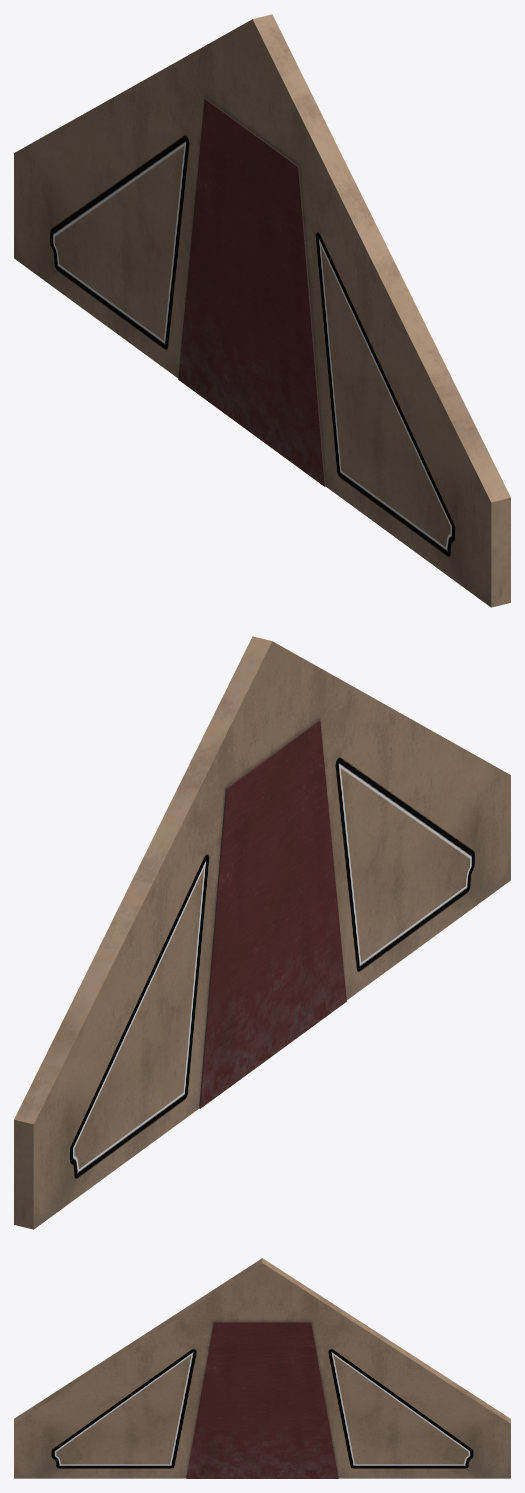
Rendered from SM_Daegong01e.fbx.
3 renders of one model, top to bottom at view 1: azimuth 30°, elevation 25°; view 2: azimuth 150°, elevation 25°; view 3: azimuth 270°, elevation 25°, orthographic. The views are drawn at different scales.
Visible parts, largest first — view 1: SM_Daegong01e; view 2: SM_Daegong01e; view 3: SM_Daegong01e.
Part boxes in pixels (box(x1,y1,x2,y2)): SM_Daegong01e: box(14, 14, 510, 607); SM_Daegong01e: box(14, 636, 510, 1229); SM_Daegong01e: box(14, 1258, 510, 1478).
Size of the model in its own units: 4.5 by 167 by 80.
1 material, 1 textured.
